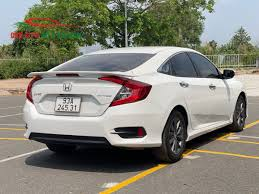Bien-so: (54, 95, 82, 112)
